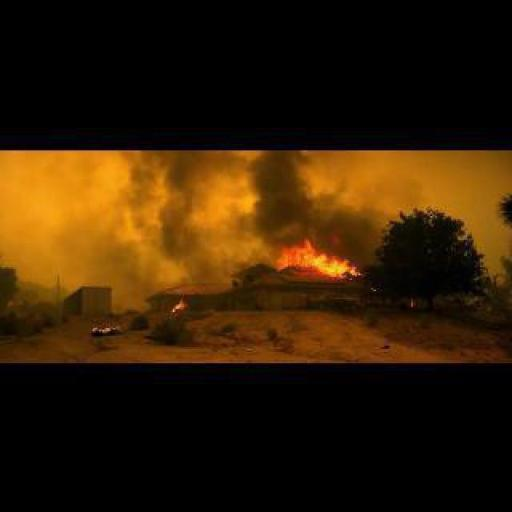smoke: (118, 148, 242, 290), (243, 149, 381, 240), (275, 237, 365, 280), (170, 298, 186, 312)
